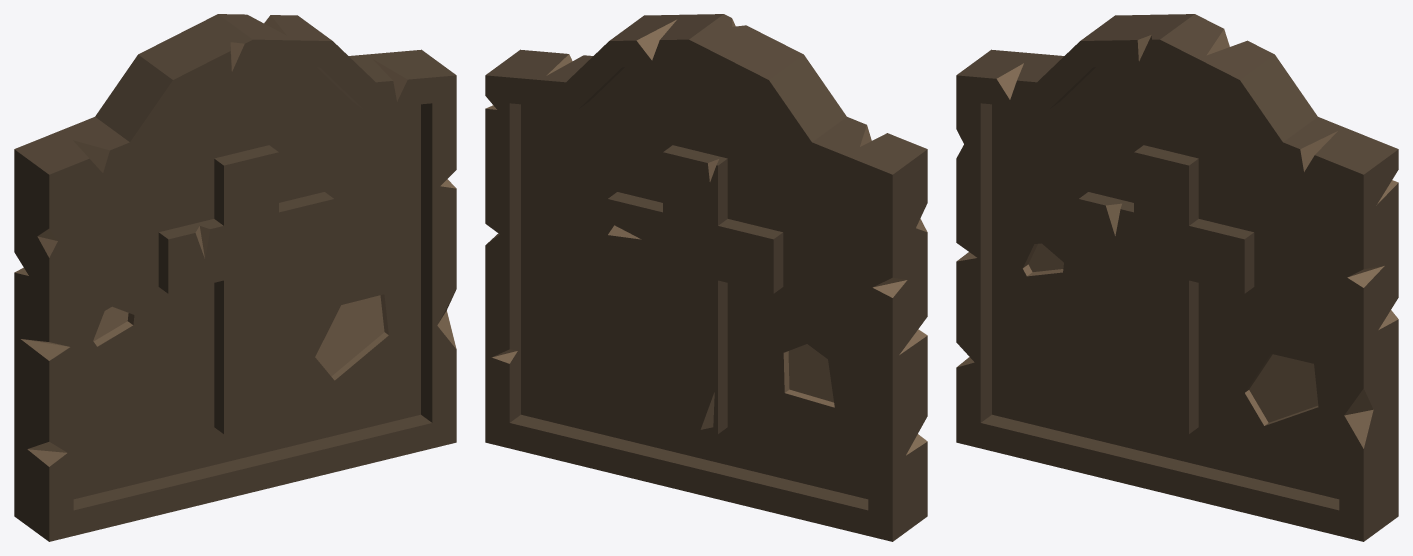
The model's file is Tombstone_5_Brown.fbx.
The picture shows the model from 3 angles, left to right: view 1: azimuth 30°, elevation 25°; view 2: azimuth 150°, elevation 25°; view 3: azimuth 330°, elevation 25°; orthographic projection.
Visible parts, largest first — view 1: Tombstone_5_Brown_Part_1, Tombstone_5_Brown_Part_2; view 2: Tombstone_5_Brown_Part_1, Tombstone_5_Brown_Part_2; view 3: Tombstone_5_Brown_Part_1, Tombstone_5_Brown_Part_2.
Boxes of the visible parts, x1,y1,x2,y2 form: Tombstone_5_Brown_Part_1: (14,14,456,541); Tombstone_5_Brown_Part_2: (14,15,456,466); Tombstone_5_Brown_Part_1: (485,14,927,541); Tombstone_5_Brown_Part_2: (486,18,927,455); Tombstone_5_Brown_Part_1: (956,14,1398,541); Tombstone_5_Brown_Part_2: (956,29,1398,448).
Size of the model in its own units: 125 by 133 by 18.59.
